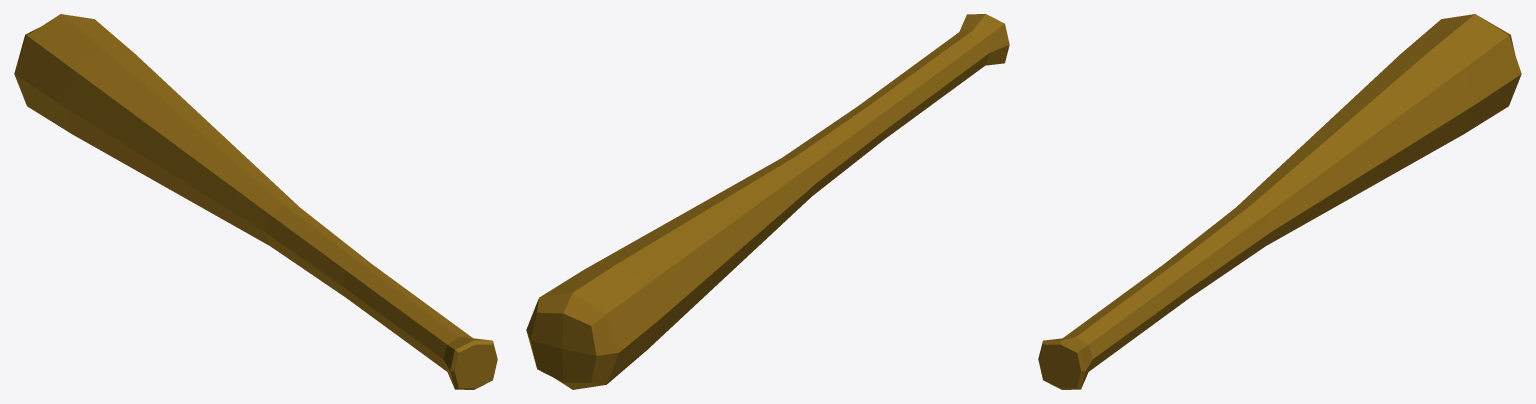
Rendered from BaseballBat1.glb.
3 views of the same model, side by side, from view 1: azimuth 30°, elevation 25°; view 2: azimuth 150°, elevation 25°; view 3: azimuth 330°, elevation 25° (orthographic).
Parts seen in each view (by area): view 1: BaseballBat1; view 2: BaseballBat1; view 3: BaseballBat1.
Part boxes in pixels (x1,y1,x2,y2): BaseballBat1: [14, 14, 497, 389]; BaseballBat1: [526, 14, 1009, 389]; BaseballBat1: [1038, 14, 1521, 389].
Size of the model in its own units: 0.1212 by 0.1212 by 0.9609.
